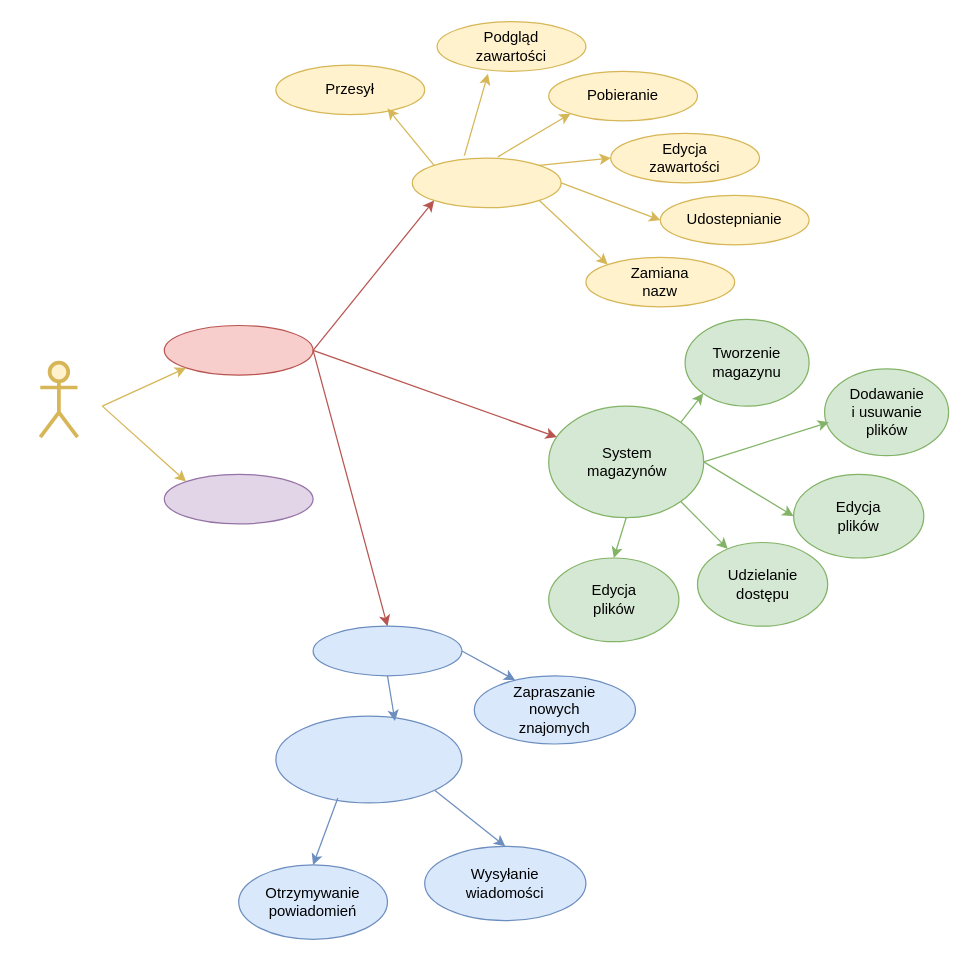
The diagram is 971 pixels wide and 961 high, and some of its shapes have lost their labels. Here are the shapes that lost their labels. From the top down, the centre of each, then its label:
point 486,182: Zarządzanie plikami
point 238,349: Logowanie
point 58,399: Użytkownik
point 238,498: Rejestracja
point 387,650: Zarządzanie znajomymi
point 368,759: Konwersajca z innymi użytkownikami
